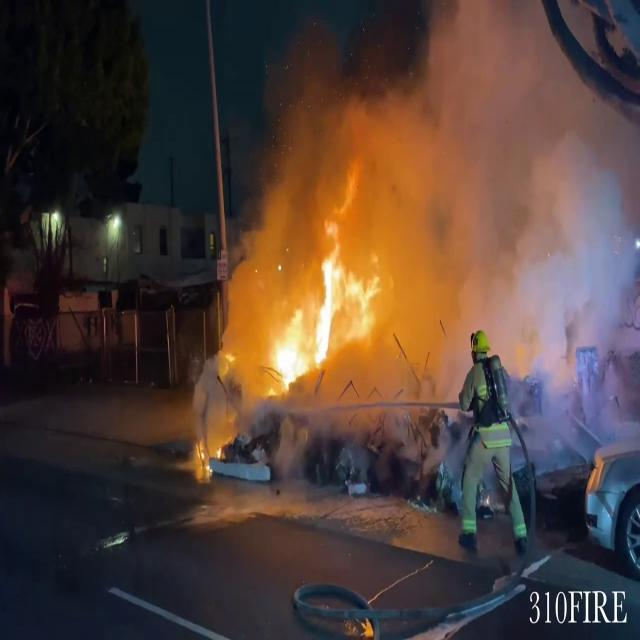Fire: (254, 234, 381, 403), (190, 434, 223, 480)
Smoke: (354, 1, 640, 430)
